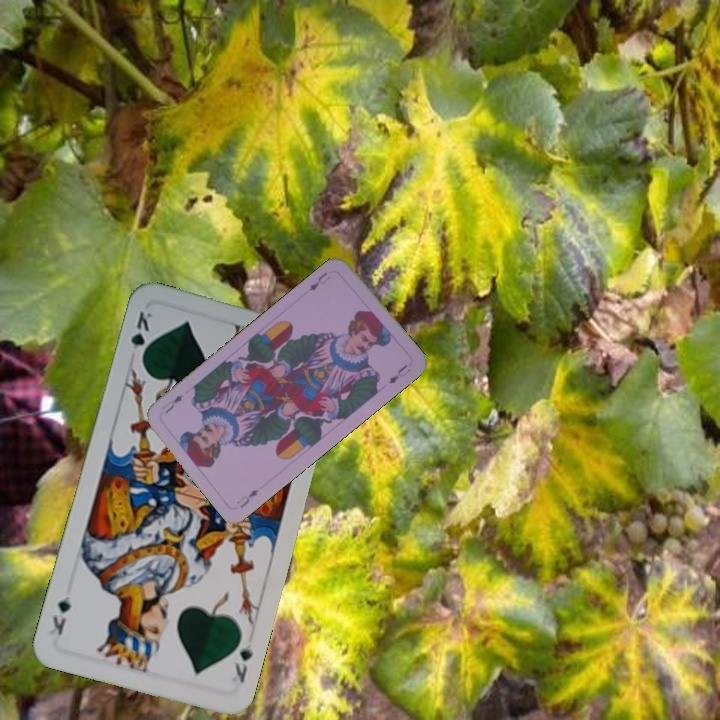EU: (232, 485, 261, 511), (305, 268, 333, 294)
GK: (126, 307, 156, 365), (229, 640, 255, 686)
